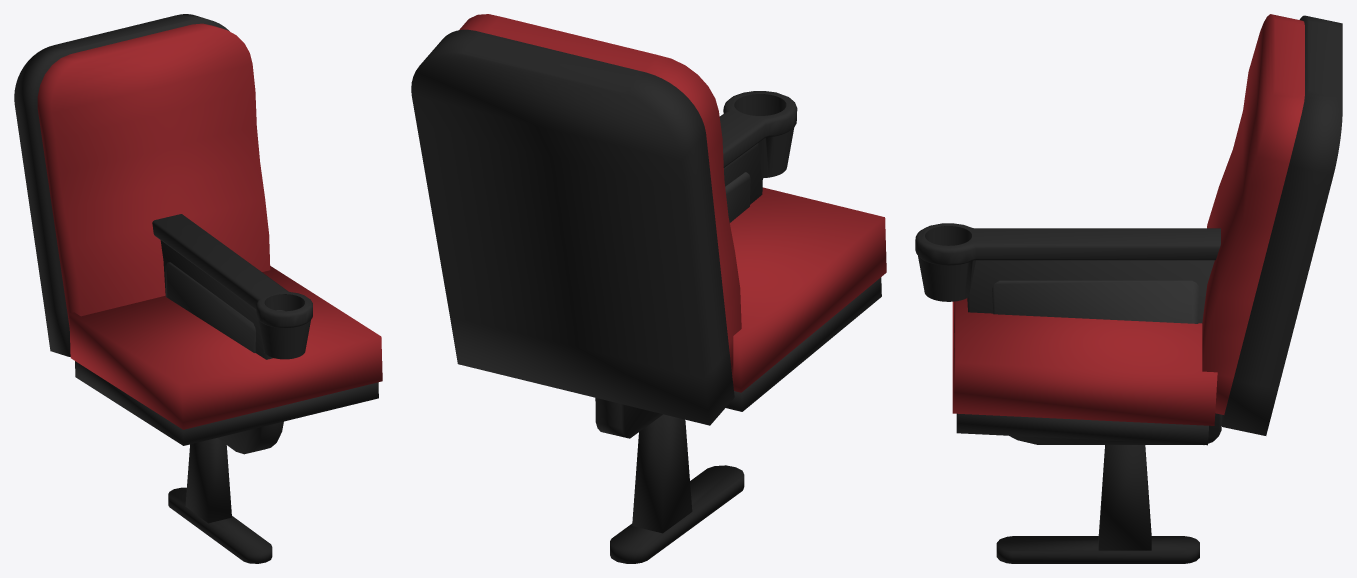
The model's file is cinema-seat.glb.
3 renders of one model, left to right at view 1: azimuth 30°, elevation 25°; view 2: azimuth 150°, elevation 25°; view 3: azimuth 270°, elevation 25°, orthographic. The views are drawn at different scales.
Visible parts, largest first — view 1: Seat, Arm; view 2: Seat, Arm; view 3: Seat, Arm.
Part boxes in pixels (x1,y1,x2,y2): Seat: (14, 14, 382, 445); Arm: (152, 214, 312, 563); Seat: (411, 14, 886, 425); Arm: (595, 91, 797, 563); Seat: (952, 14, 1342, 445); Arm: (915, 223, 1221, 563).
Bounding box in the file's own units: 0.524 × 1.03 × 0.7981.
